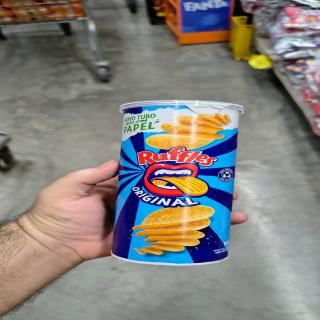food-box: (99, 98, 237, 275)
